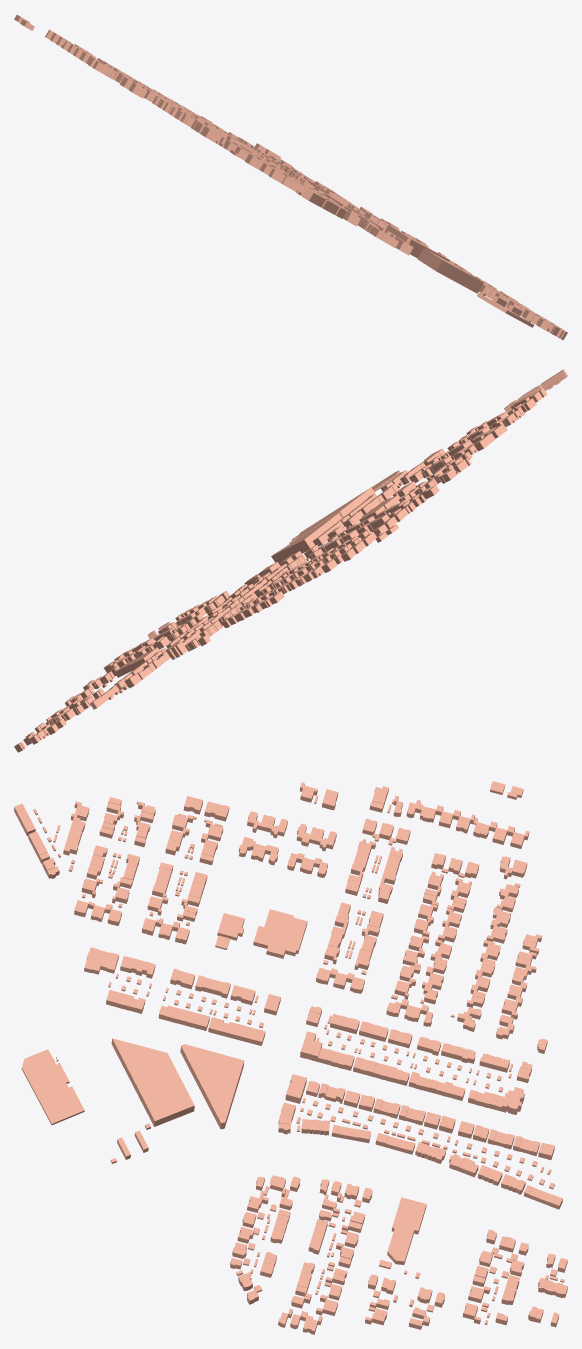
The picture shows the model from 3 angles, top to bottom: view 1: azimuth 30°, elevation 25°; view 2: azimuth 150°, elevation 25°; view 3: azimuth 270°, elevation 25°; orthographic projection. The views are drawn at different scales.
Bounding box in the file's own units: 501 × 385 × 552.
